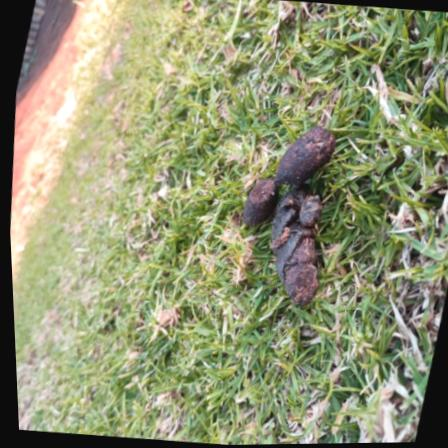dog-poop: (213, 115, 356, 311)
